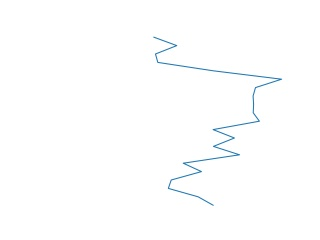floodPlain: (150, 35, 283, 209)
